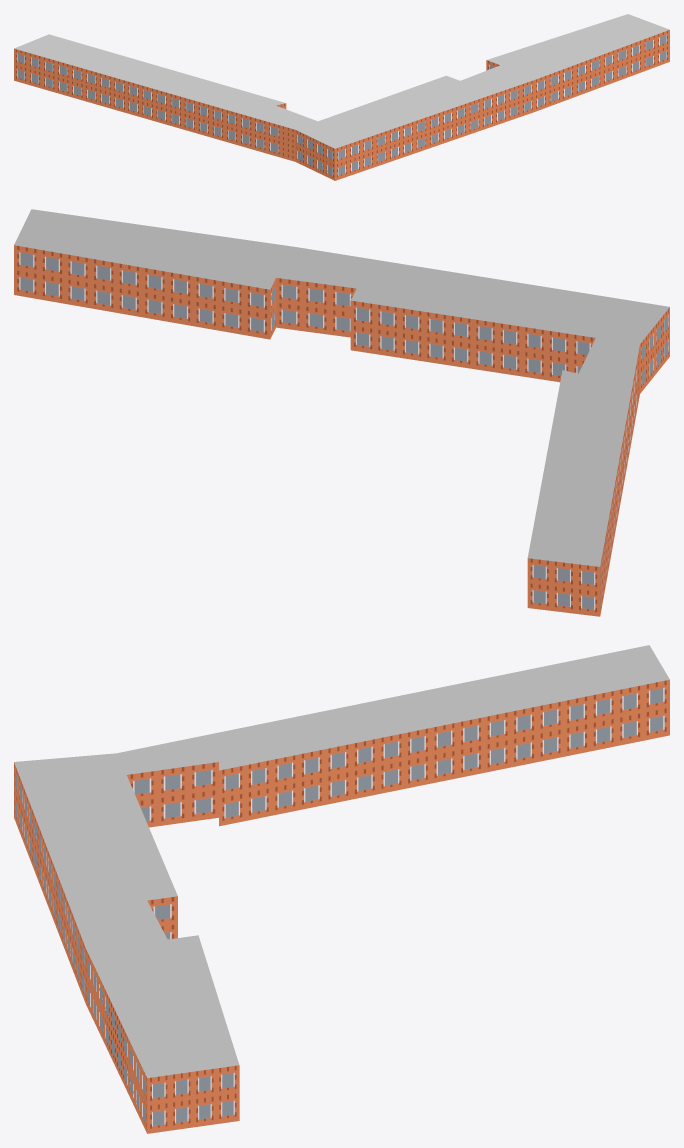
3 views of the same model, one above another, from view 1: azimuth 30°, elevation 25°; view 2: azimuth 150°, elevation 25°; view 3: azimuth 270°, elevation 25° (orthographic). The views are drawn at different scales.
Bounding box in the file's own units: 100 × 6 × 64.
2 materials, 1 textured.
